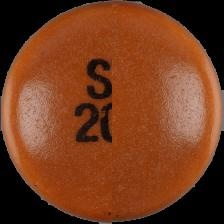0615-7737: (0, 0, 224, 224)
